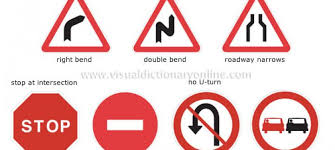Double_bend_right: (133, 1, 200, 52)
